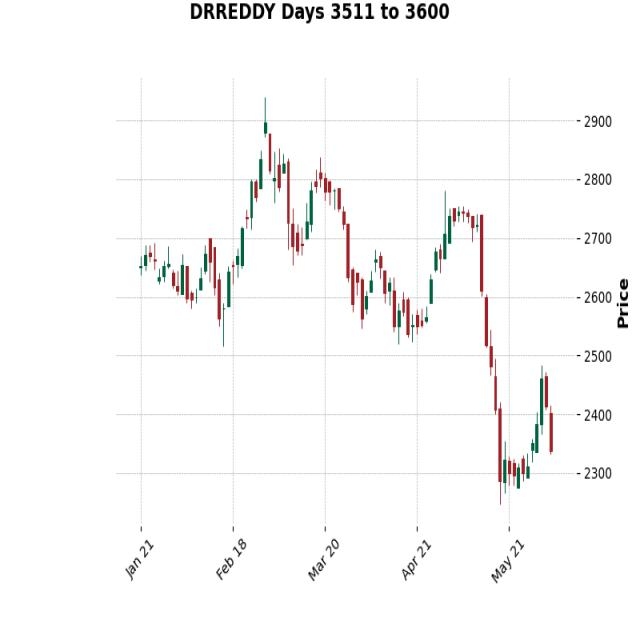Symmetric Triangle: (218, 83, 328, 331)
